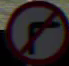Don't turn right: (7, 8, 64, 55)
